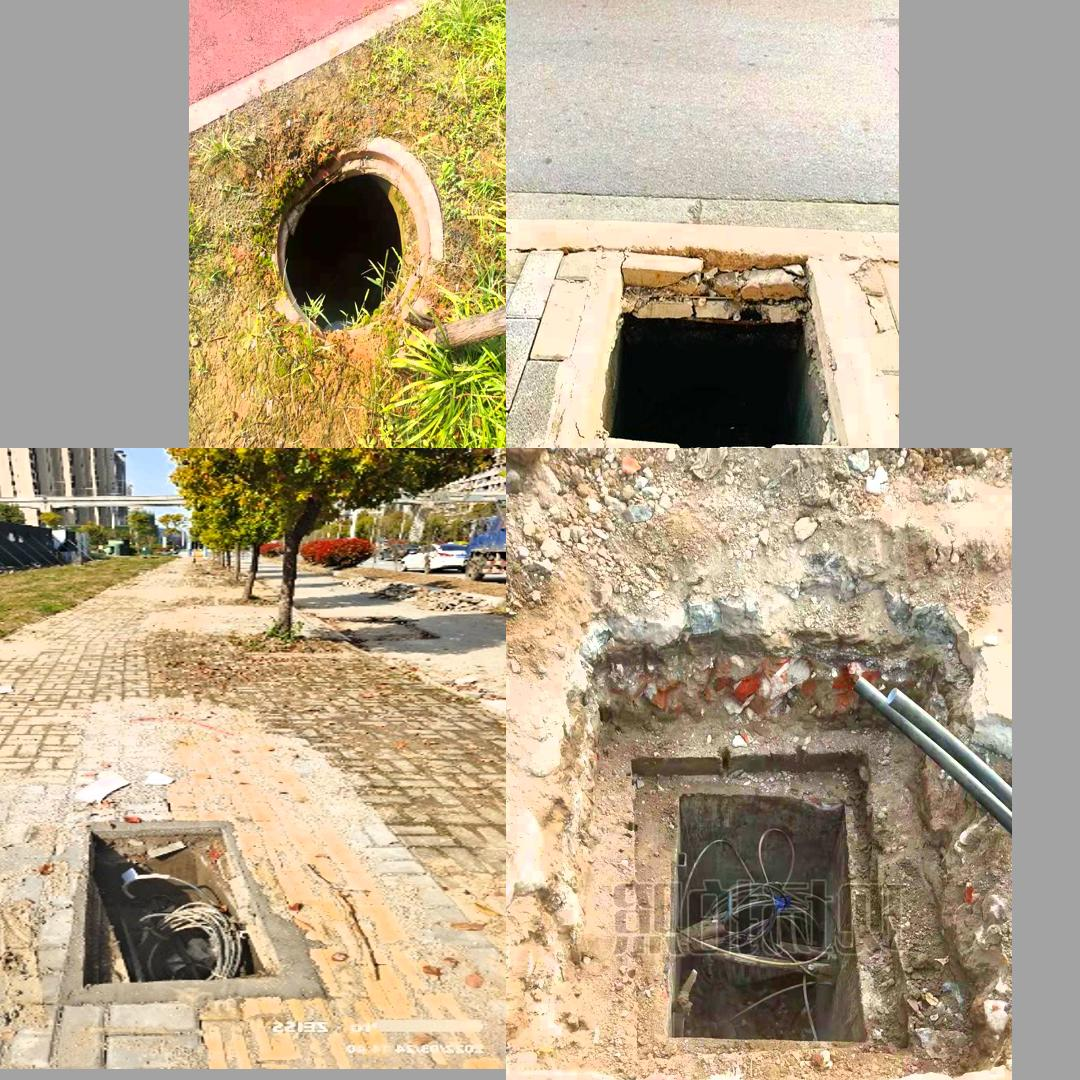lose: (576, 228, 867, 446), (666, 762, 870, 1044), (69, 804, 273, 993), (270, 133, 443, 336)
